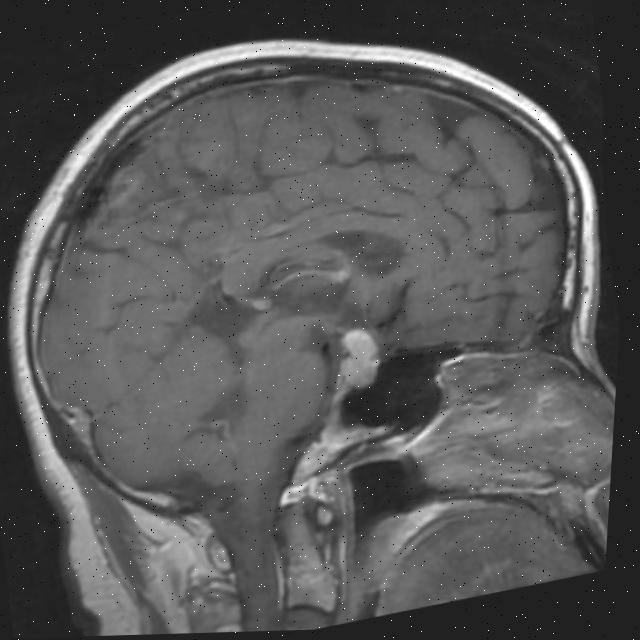Pituitary: (332, 323, 387, 392)
